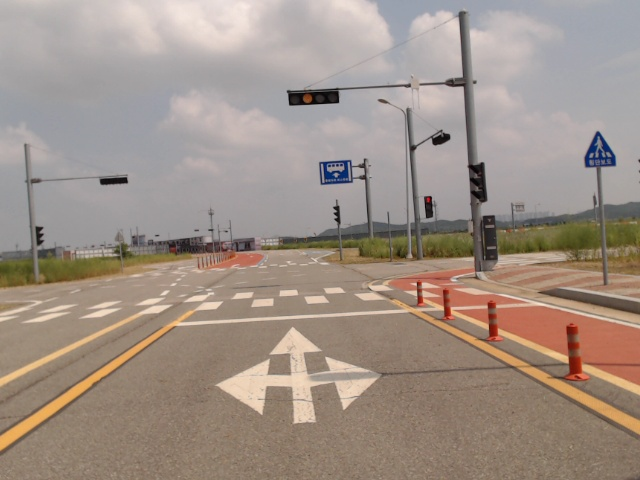orange_4: (287, 90, 340, 107)
